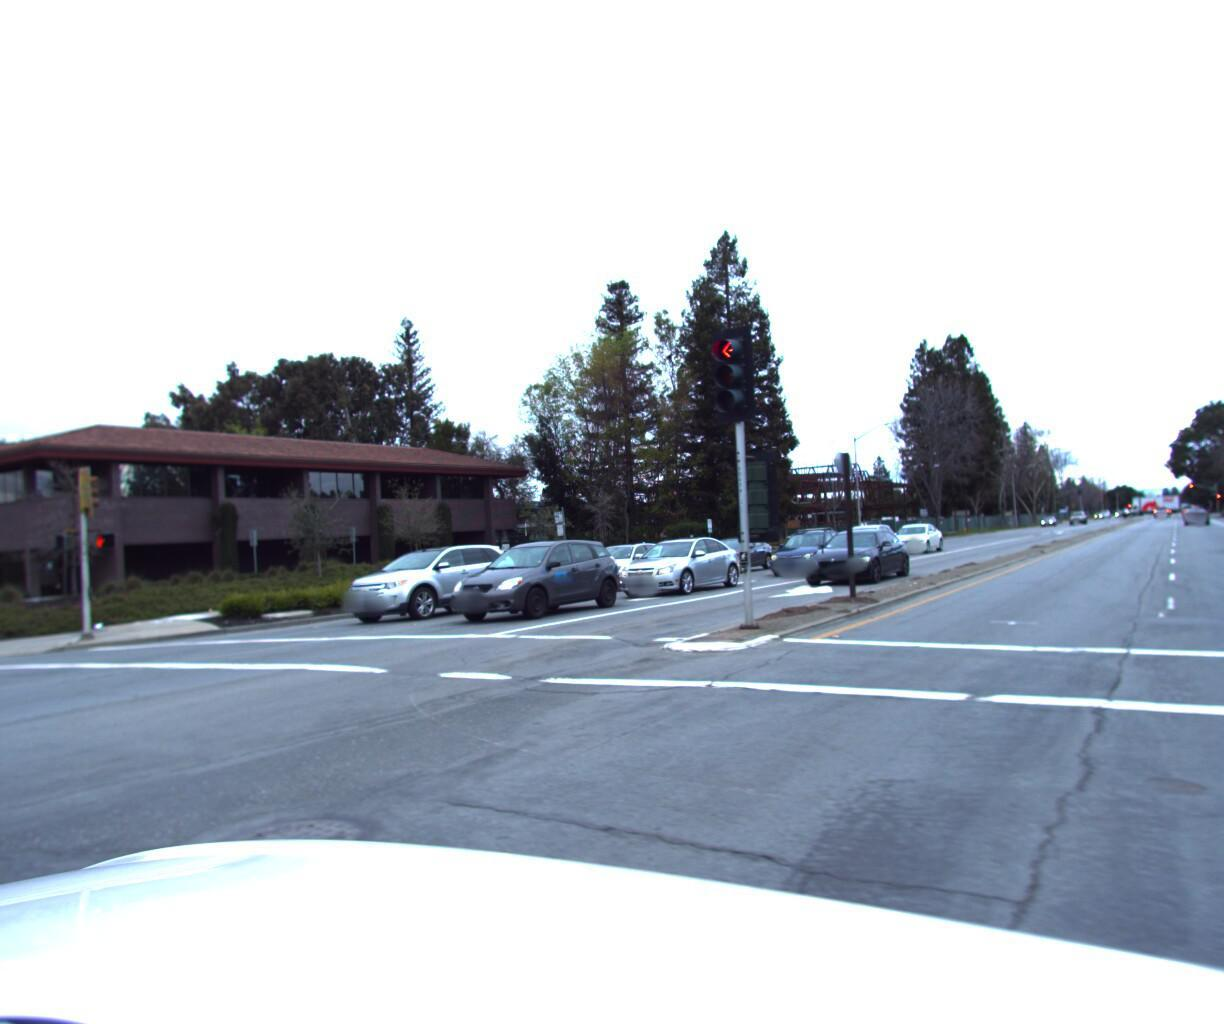car: (431, 531, 632, 623), (324, 535, 524, 621), (601, 527, 747, 592), (790, 520, 915, 583), (558, 535, 682, 594), (758, 516, 858, 573), (682, 524, 775, 573), (880, 516, 944, 554)
